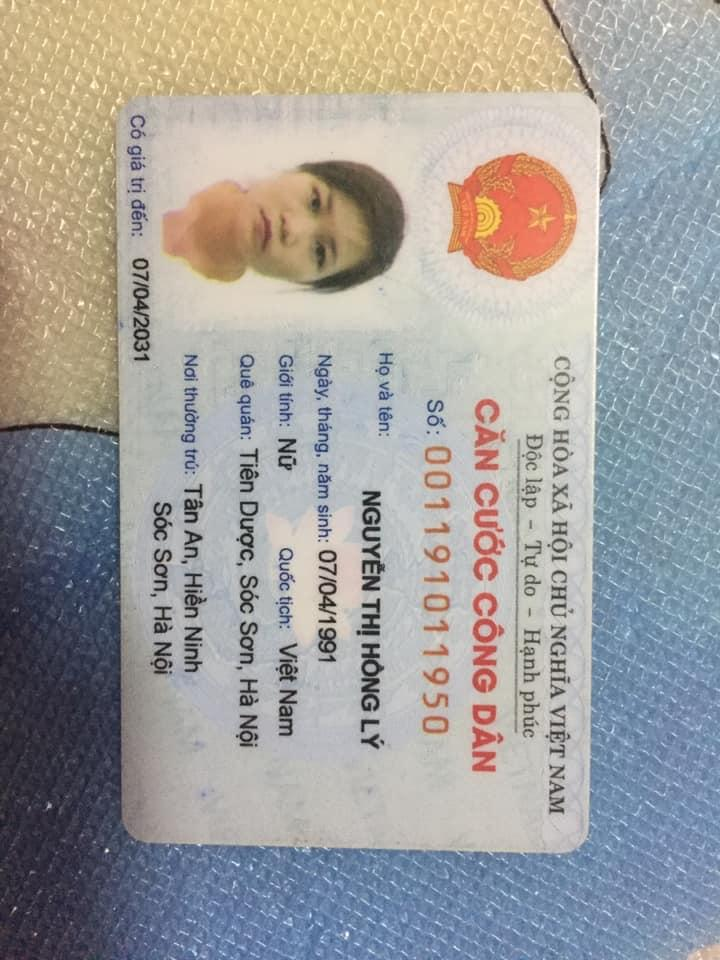bottom_left: (63, 752, 102, 809)
bottom_right: (607, 751, 640, 803)
image_person: (95, 397, 253, 749)
top_left: (60, 149, 92, 195)
top_right: (618, 164, 645, 224)
